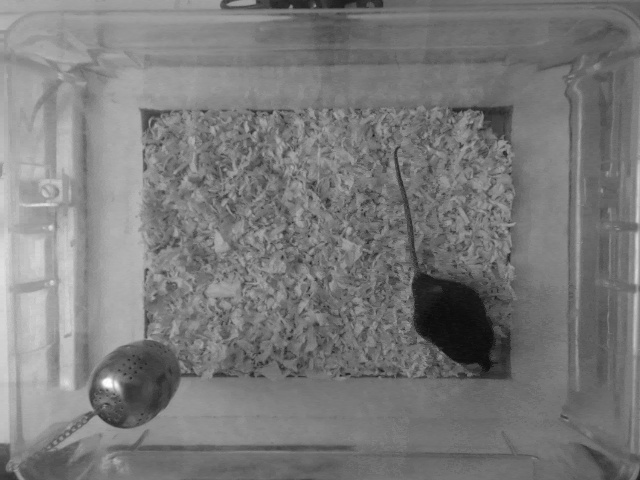mice: (389, 140, 508, 379)
